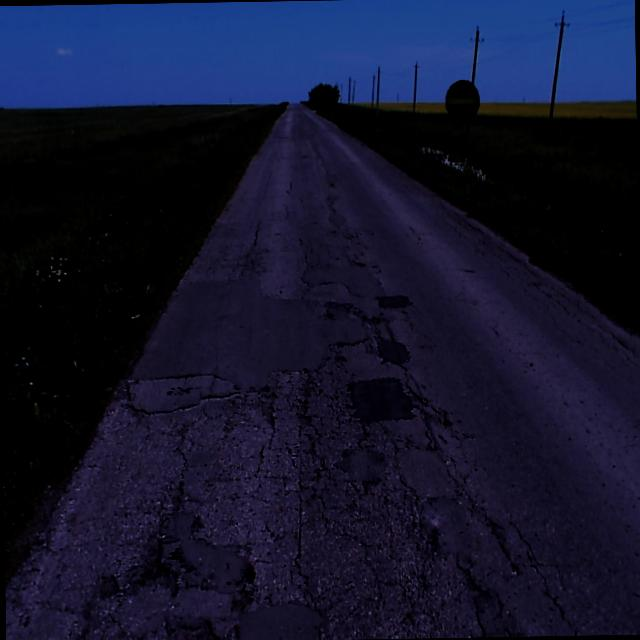road: (5, 103, 640, 640)
